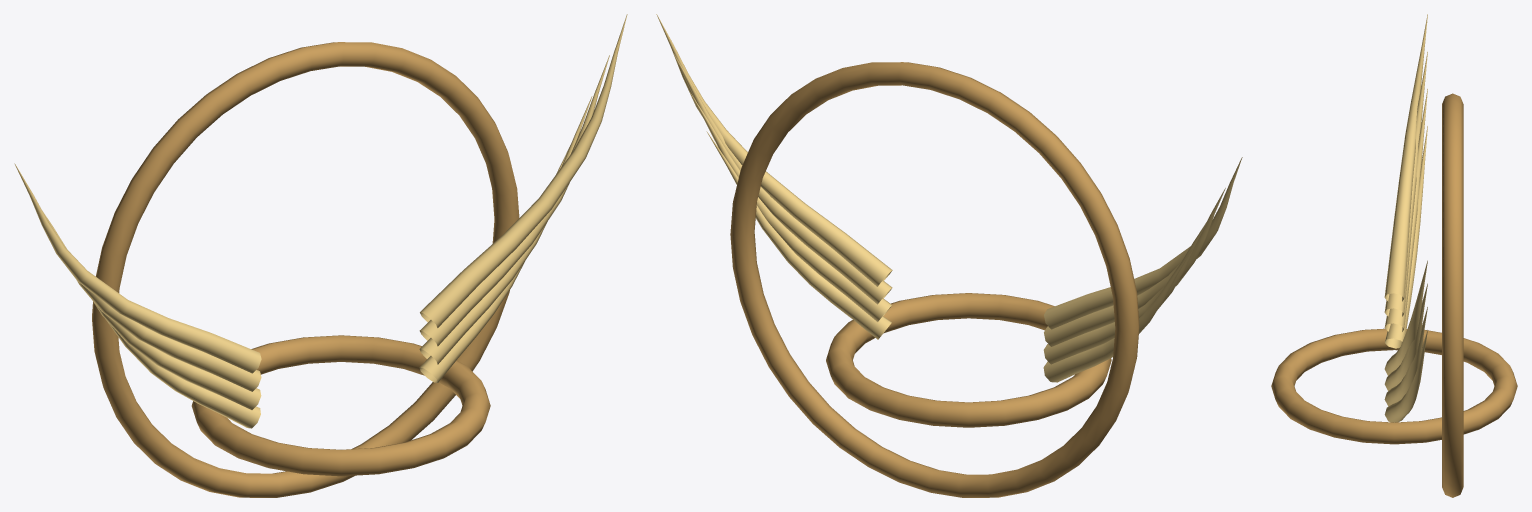
File: StormCrown.fbx
3 views of the same model, side by side, from view 1: azimuth 30°, elevation 25°; view 2: azimuth 150°, elevation 25°; view 3: azimuth 270°, elevation 25° (orthographic). The views are drawn at different scales.
Visible parts, largest first — view 1: Solar halo_export, Crown circlet.003_export, Crown wing.007_export, Crown wing.003_export, Crown wing.002_export, Crown wing.006_export, Crown wing.001_export, Crown wing_export, Crown wing.005_export, Crown wing.004_export; view 2: Solar halo_export, Crown circlet.003_export, Crown wing.007_export, Crown wing.006_export, Crown wing.003_export, Crown wing.005_export, Crown wing.004_export, Crown wing.002_export, Crown wing_export, Crown wing.001_export; view 3: Crown circlet.003_export, Solar halo_export, Crown wing.003_export, Crown wing_export, Crown wing.002_export, Crown wing.001_export, Crown wing.007_export, Crown wing.004_export, Crown wing.005_export, Crown wing.006_export.
Part boxes in pixels (left/top/right/bottom): Solar halo_export: left=92, top=42, right=519, bottom=497; Crown circlet.003_export: left=191, top=335, right=490, bottom=476; Crown wing.007_export: left=420, top=14, right=627, bottom=327; Crown wing.003_export: left=14, top=163, right=261, bottom=373; Crown wing.002_export: left=43, top=212, right=261, bottom=391; Crown wing.006_export: left=419, top=55, right=609, bottom=346; Crown wing.001_export: left=93, top=301, right=261, bottom=409; Crown wing_export: left=106, top=320, right=260, bottom=428; Crown wing.005_export: left=419, top=96, right=592, bottom=364; Crown wing.004_export: left=419, top=145, right=570, bottom=382; Solar halo_export: left=730, top=62, right=1139, bottom=497; Crown circlet.003_export: left=826, top=293, right=1111, bottom=427; Crown wing.007_export: left=656, top=14, right=892, bottom=286; Crown wing.006_export: left=673, top=53, right=892, bottom=304; Crown wing.003_export: left=1044, top=157, right=1242, bottom=329; Crown wing.005_export: left=690, top=92, right=891, bottom=321; Crown wing.004_export: left=706, top=131, right=891, bottom=339; Crown wing.002_export: left=1044, top=188, right=1225, bottom=346; Crown wing_export: left=1043, top=250, right=1191, bottom=382; Crown wing.001_export: left=1043, top=219, right=1208, bottom=364; Crown circlet.003_export: left=1271, top=328, right=1517, bottom=444; Solar halo_export: left=1442, top=93, right=1463, bottom=497; Crown wing.003_export: left=1384, top=14, right=1427, bottom=301; Crown wing_export: left=1384, top=126, right=1427, bottom=348; Crown wing.002_export: left=1384, top=51, right=1427, bottom=316; Crown wing.001_export: left=1384, top=88, right=1427, bottom=331; Crown wing.007_export: left=1384, top=260, right=1427, bottom=375; Crown wing.004_export: left=1384, top=330, right=1427, bottom=422; Crown wing.005_export: left=1384, top=307, right=1427, bottom=406; Crown wing.006_export: left=1384, top=283, right=1427, bottom=390.
Size of the model in its own units: 350 by 243 by 148.
